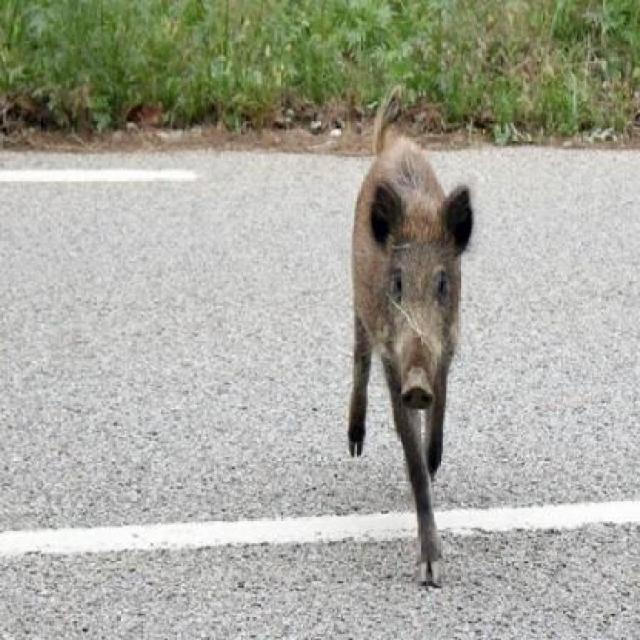Wild Boar: (344, 88, 474, 589)
